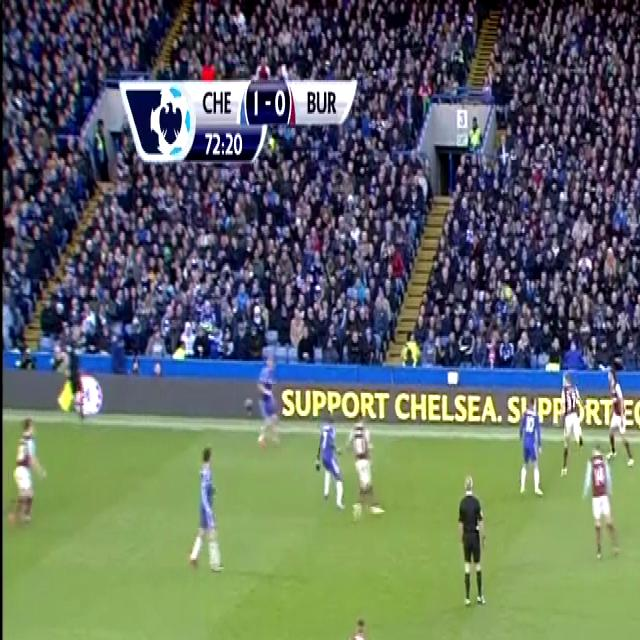referee: (450, 468, 490, 617), (56, 327, 94, 425)
soccer-player: (179, 441, 224, 582), (577, 443, 623, 571), (8, 409, 48, 533), (348, 408, 384, 527), (600, 359, 634, 476), (512, 390, 546, 506), (252, 350, 286, 456), (315, 405, 347, 516), (556, 364, 586, 470), (331, 606, 385, 640)
